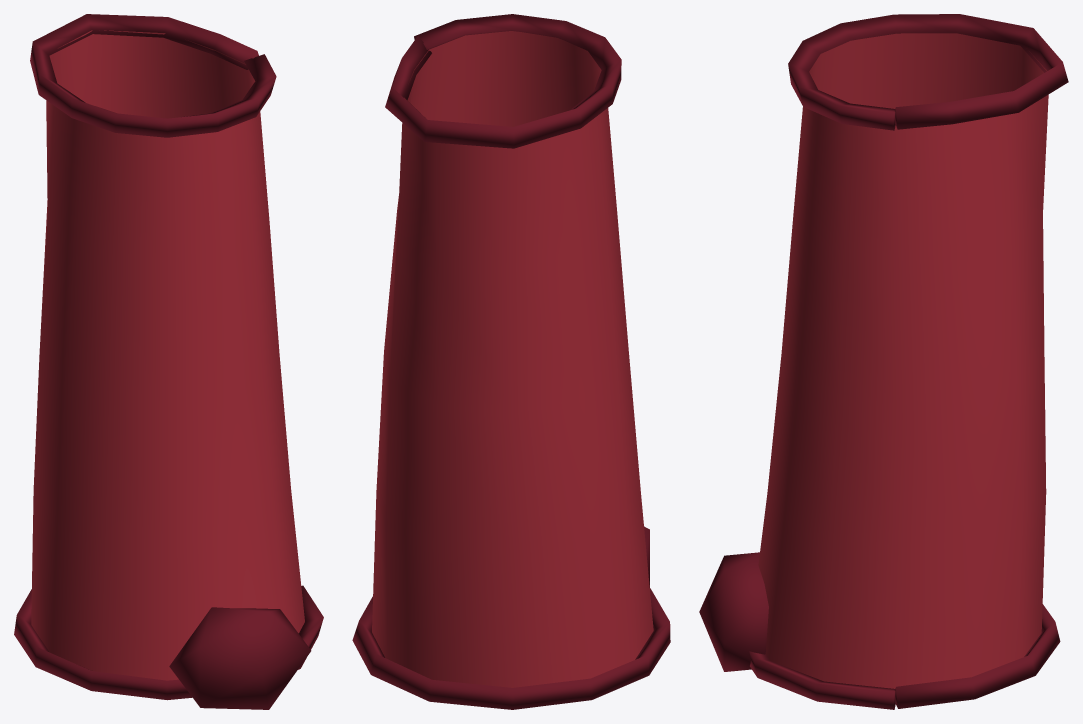
File: crimtane_armor_greave.L.glb
3 views of the same model, side by side, from view 1: azimuth 30°, elevation 25°; view 2: azimuth 150°, elevation 25°; view 3: azimuth 270°, elevation 25° (orthographic). The views are drawn at different scales.
Parts seen in each view (by area): view 1: crimtane_armor_greave.L; view 2: crimtane_armor_greave.L; view 3: crimtane_armor_greave.L.
Boxes of the visible parts, x1,y1,x2,y2 form: crimtane_armor_greave.L: (14, 14, 323, 709); crimtane_armor_greave.L: (352, 14, 670, 709); crimtane_armor_greave.L: (699, 14, 1068, 709).
Size of the model in its own units: 0.1942 by 0.4045 by 0.2254.
